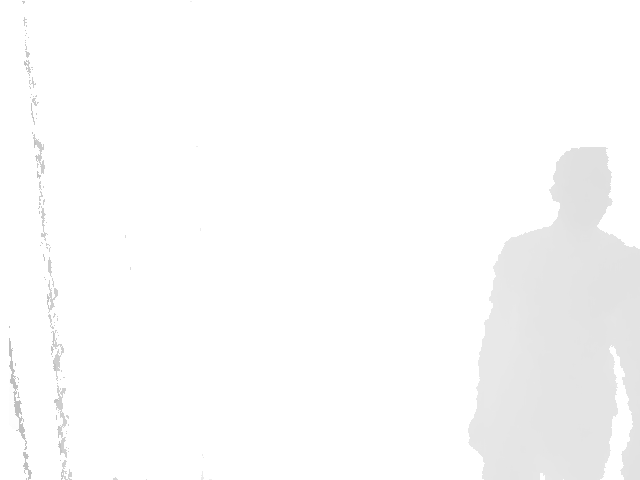head: (549, 145, 614, 224)
person: (466, 145, 639, 480)
